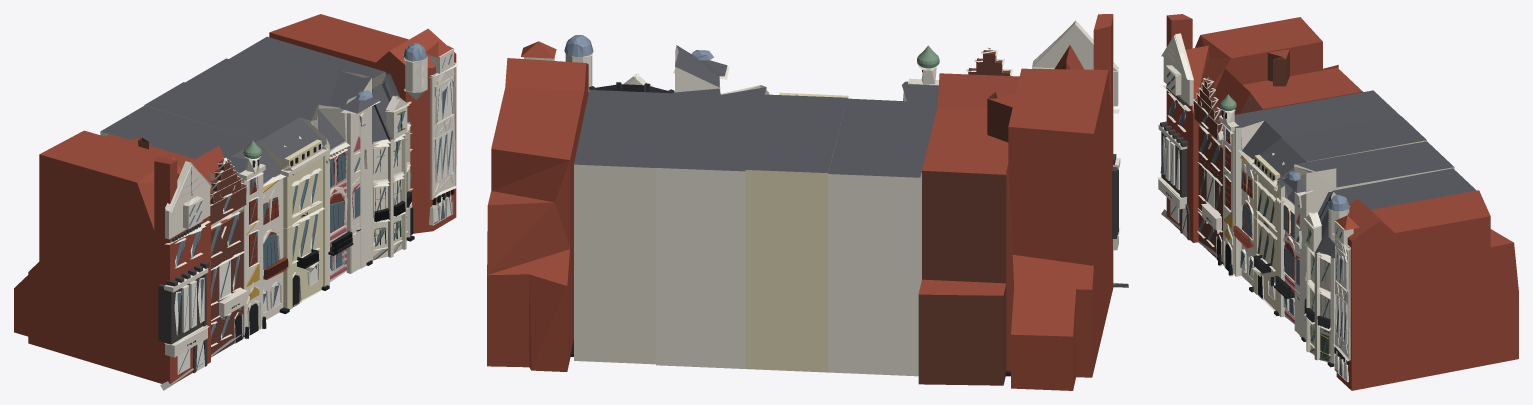
The model's file is zevenlandenhuizen.lod1.glb.
The picture shows the model from 3 angles, left to right: view 1: azimuth 30°, elevation 25°; view 2: azimuth 150°, elevation 25°; view 3: azimuth 270°, elevation 25°; orthographic projection. The views are drawn at different scales.
Visible parts, largest first — view 1: zevenlandenhuizen; view 2: zevenlandenhuizen; view 3: zevenlandenhuizen.
Part boxes in pixels (x1=…): zevenlandenhuizen: x1=14, y1=14, x2=458, y2=390; zevenlandenhuizen: x1=487, y1=14, x2=1128, y2=390; zevenlandenhuizen: x1=1157, y1=14, x2=1518, y2=390.
Size of the model in its own units: 43.59 by 20.55 by 33.22.
